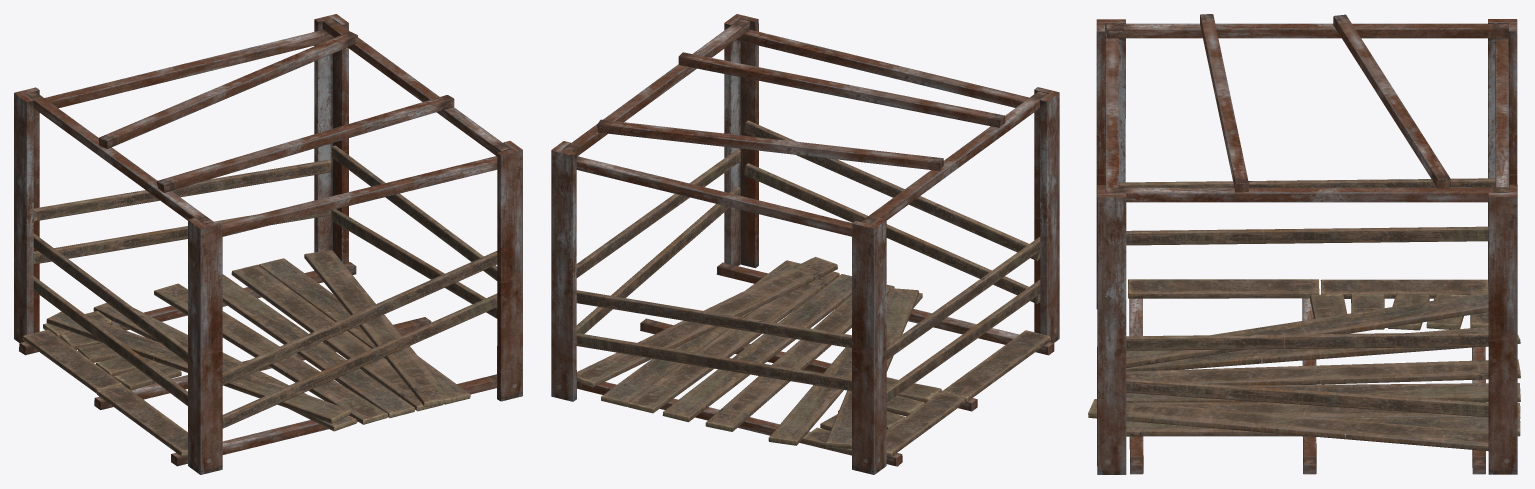
File: SM_Tower_Top.fbx
3 renders of one model, left to right at view 1: azimuth 30°, elevation 25°; view 2: azimuth 150°, elevation 25°; view 3: azimuth 270°, elevation 25°, orthographic. The views are drawn at different scales.
Parts seen in each view (by area): view 1: SM_Tower_Top_LOD0; view 2: SM_Tower_Top_LOD0; view 3: SM_Tower_Top_LOD0.
Boxes of the visible parts, bbox=[...] form: SM_Tower_Top_LOD0: bbox=[14, 14, 522, 474]; SM_Tower_Top_LOD0: bbox=[551, 14, 1059, 474]; SM_Tower_Top_LOD0: bbox=[1088, 14, 1520, 474].
Bounding box in the file's own units: 320 × 320 × 234.
Materials: 1 (1 with a texture image).
